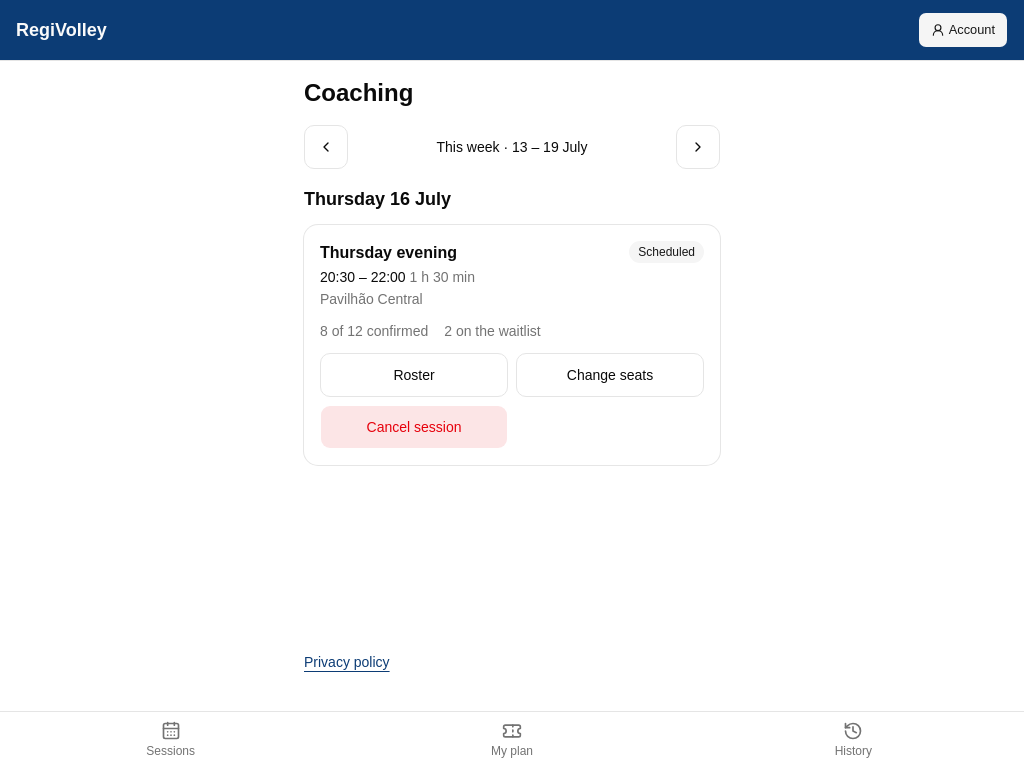
Test: cancel a session › sends the reason, then reports what the API did and refreshes the week
Click the button "Cancel session".
click(414, 427)  # box [320,405,508,449]
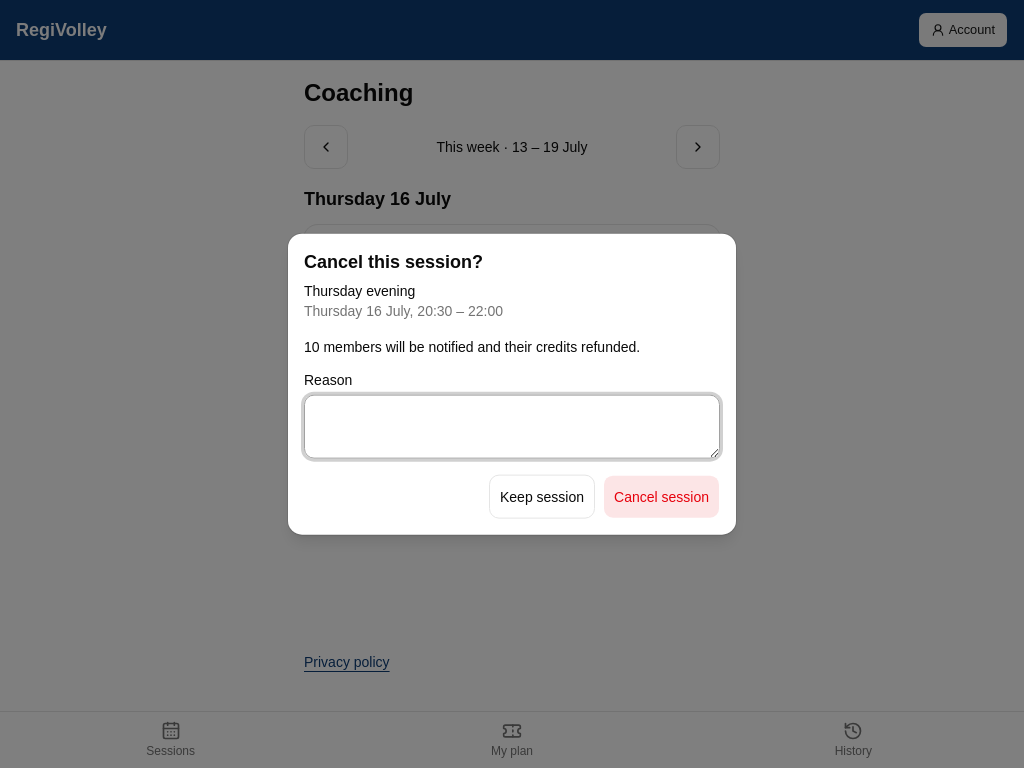
Type "  Court flooded " into the text box labelled "Reason".
click(512, 426); type("  Court flooded ")  # box [304,394,720,458]
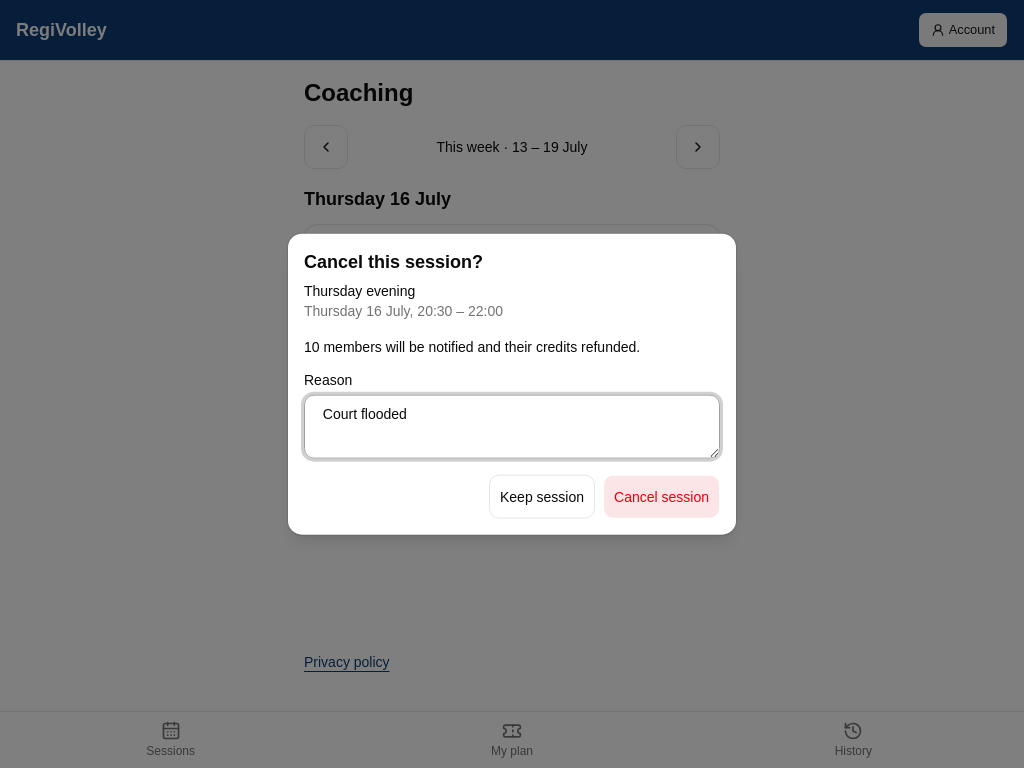
Click the button "Cancel session".
click(662, 496)  # box [603,474,720,518]
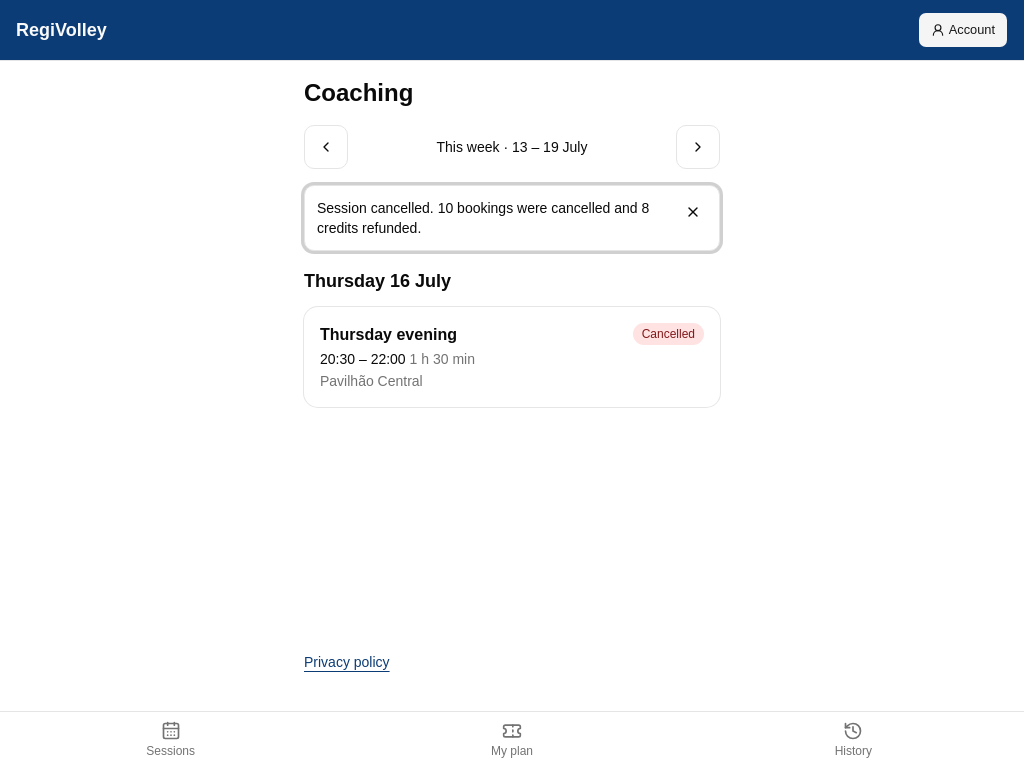
expect the message reads "Session cancelled. 10 bookings were cancelled and 8 credits refunded.": met, box [317,200,649,236]
expect the dialog is gone: met
expect the element "Thursday evening" shows "Cancelled": met, box [642,327,695,341]
